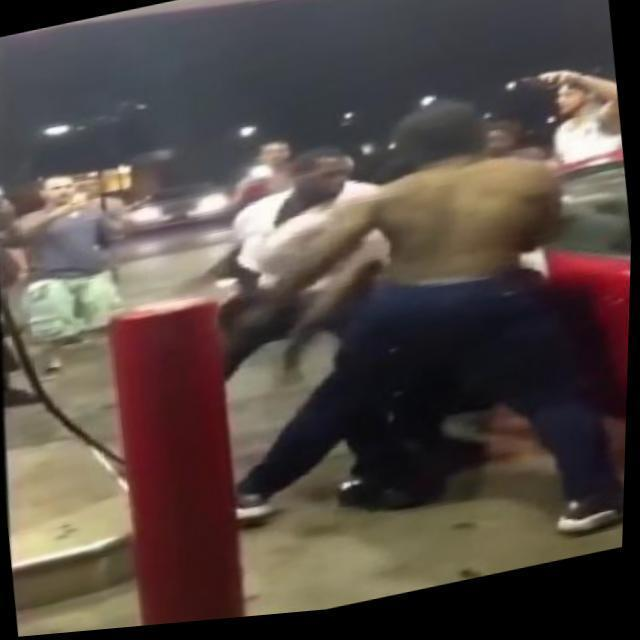fight: (189, 70, 614, 538)
